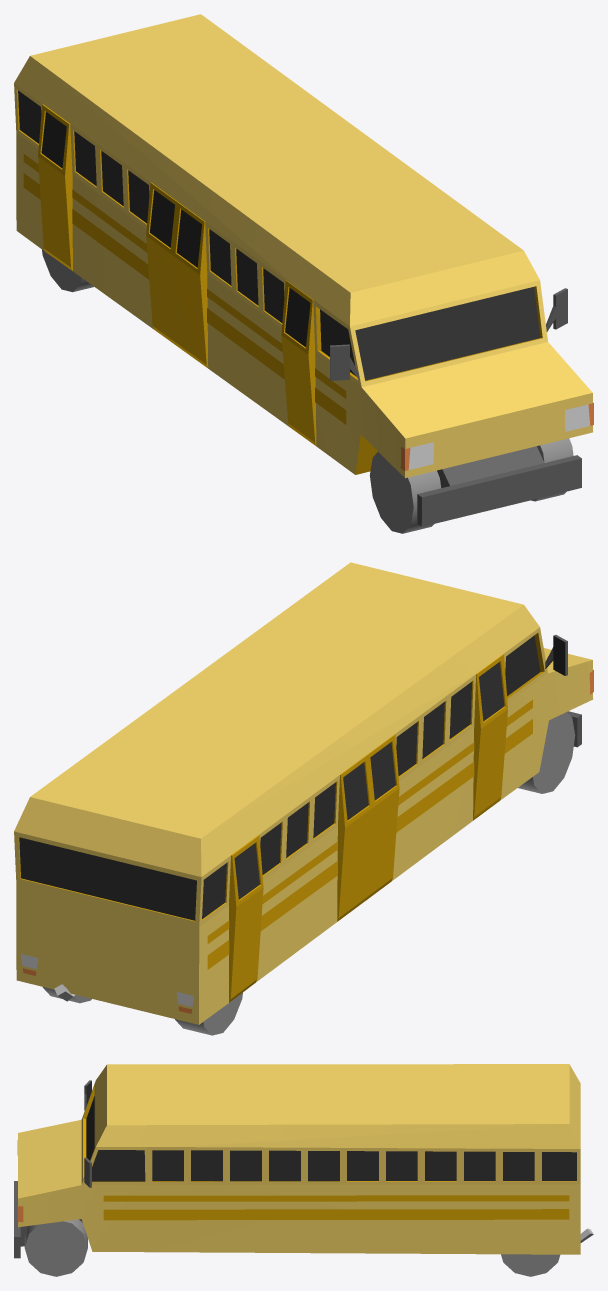
Rendered from bus_05.fbx.
3 views of the same model, one above another, from view 1: azimuth 30°, elevation 25°; view 2: azimuth 150°, elevation 25°; view 3: azimuth 270°, elevation 25° (orthographic). The views are drawn at different scales.
Visible parts, largest first — view 1: bus_05; view 2: bus_05; view 3: bus_05.
Part boxes in pixels (x1,y1,x2,y2): bus_05: [14, 14, 593, 533]; bus_05: [14, 562, 593, 1035]; bus_05: [14, 1064, 593, 1276].
Size of the model in its own units: 2.77 by 2.39 by 8.14.
